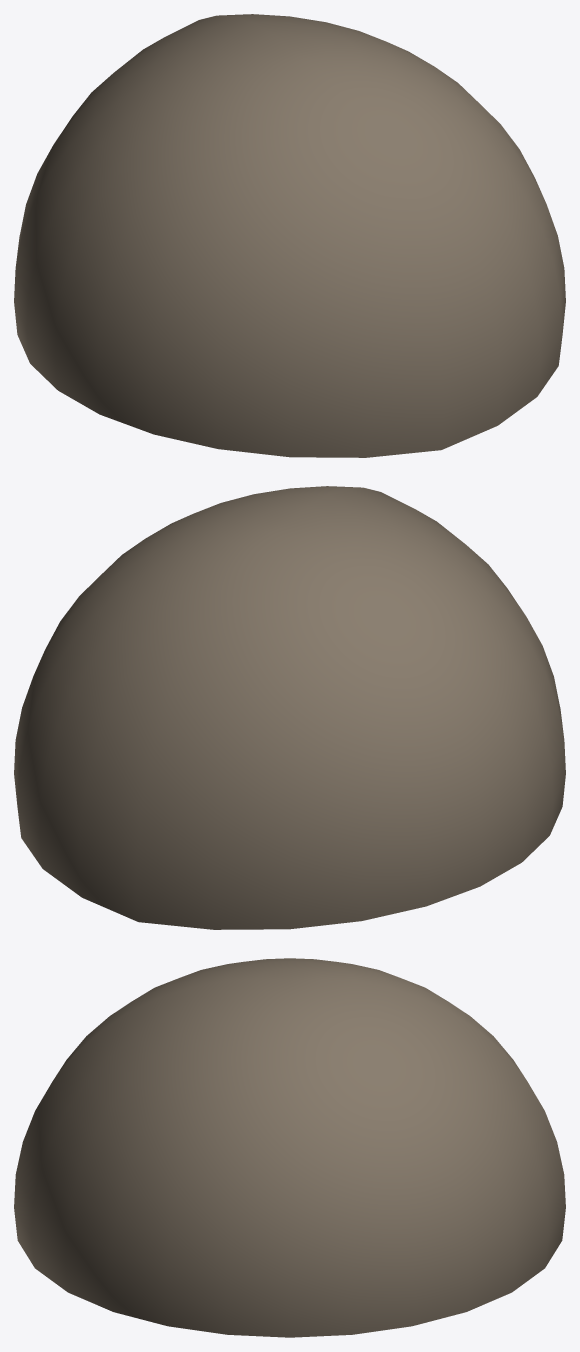
File: medium.glb
3 views of the same model, one above another, from view 1: azimuth 30°, elevation 25°; view 2: azimuth 150°, elevation 25°; view 3: azimuth 270°, elevation 25° (orthographic). The views are drawn at different scales.
Visible parts, largest first — view 1: Hair_medium; view 2: Hair_medium; view 3: Hair_medium.
Part boxes in pixels (x1,y1,x2,y2): Hair_medium: (14,14,565,457); Hair_medium: (14,486,565,929); Hair_medium: (14,958,565,1337).
Bounding box in the file's own units: 2.46 × 1.46 × 2.79.
